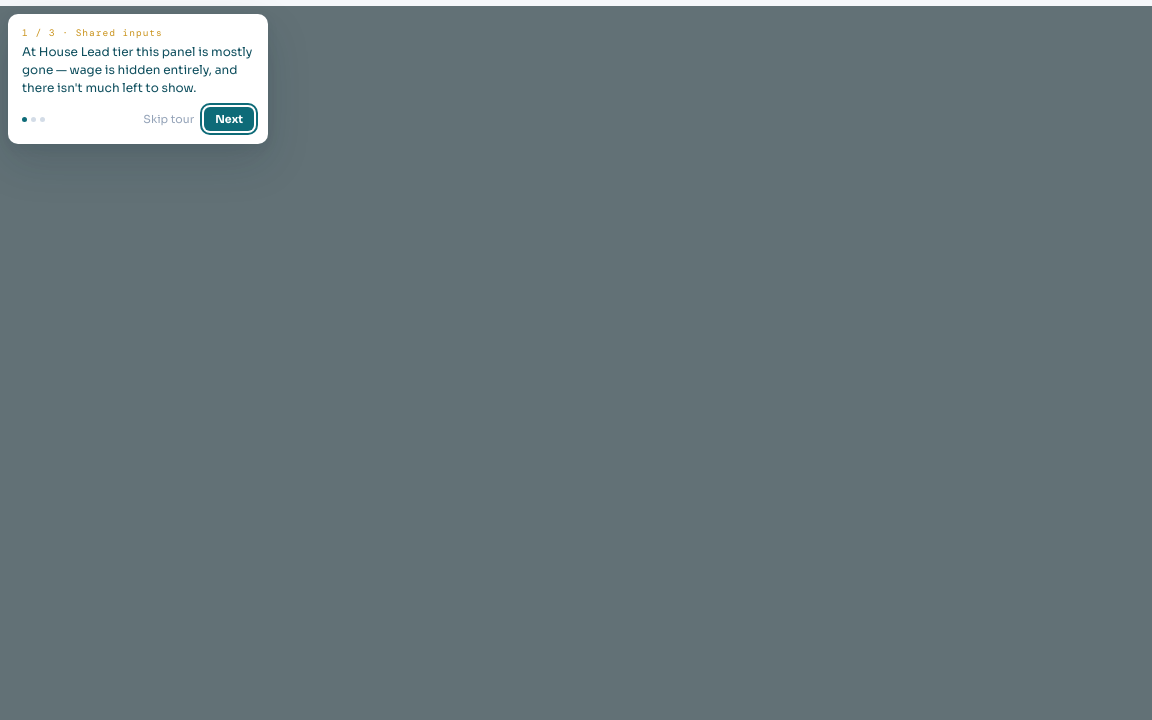
Scenario: GuidedTour — read-only tier retargets the save stop › a House Lead's save stop still completes the tour when only tab-strip exists (no save-button target)
Later steps or results of the test are not shown.
expect the text "1 / 3 · Shared inputs" is shown: met, box [22, 27, 163, 39]
Click the button "Next" at (229,119), box [204, 107, 254, 131]
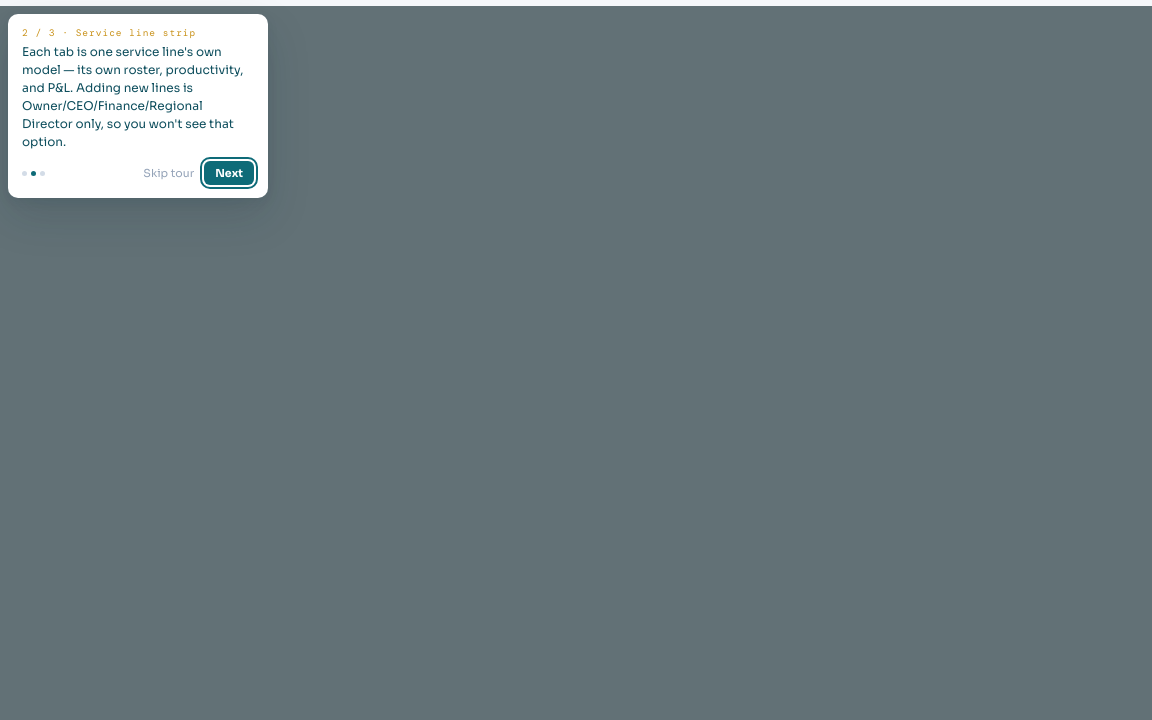
expect the text "2 / 3 · Service line strip" is shown: met, box [22, 27, 196, 39]
Click the button "Next" at (229,173), box [204, 161, 254, 185]
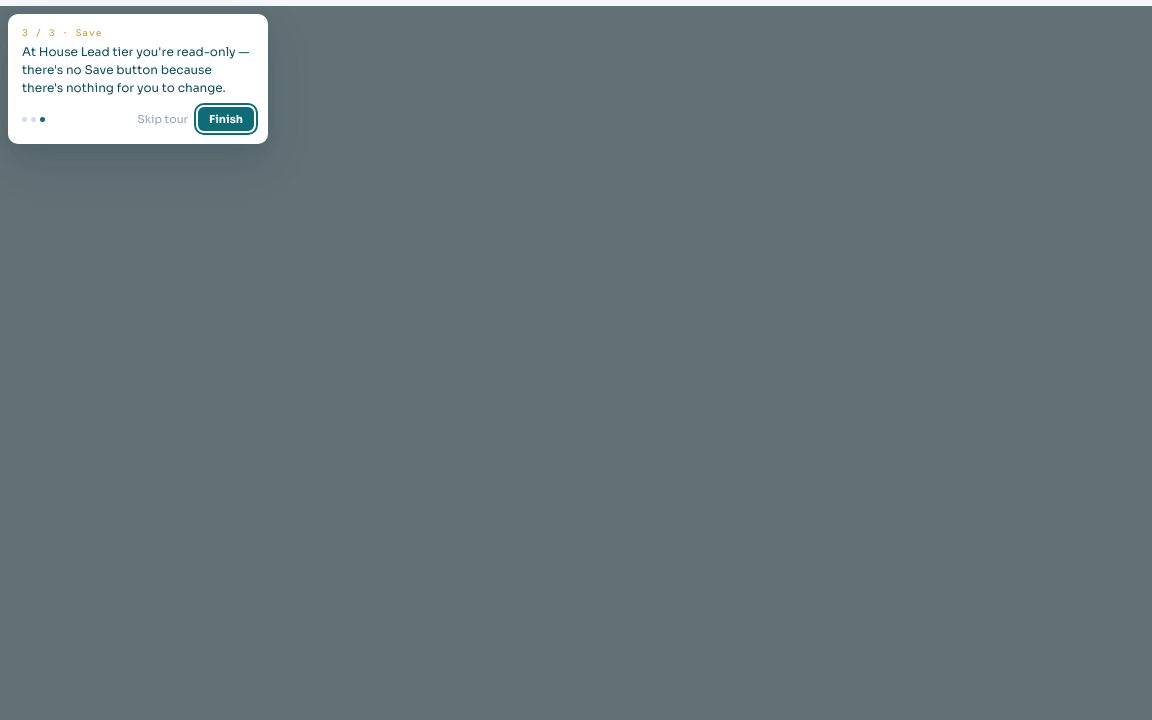
expect the text "read-only" is shown: met, box [22, 44, 249, 95]
expect the button "Finish" is shown: met, box [198, 107, 254, 131]
